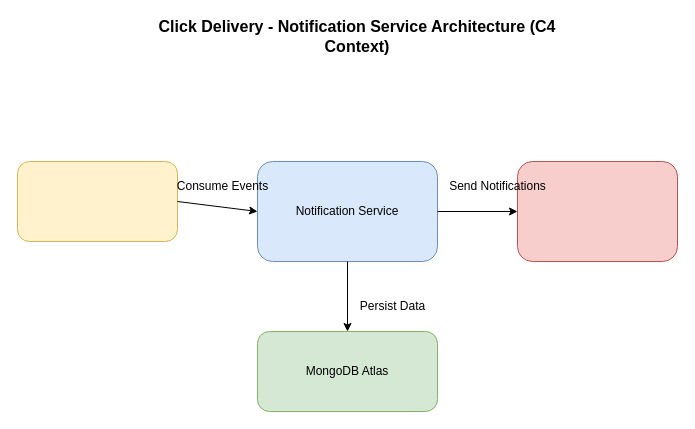
The diagram is 695 pixels wide and 429 high, and some of its shapes have lost their labels. The centre of each missing label's shape, as x and y in pixels:
NATS Message Broker: the point at 97,201
SendGrid / FCM / Twilio: the point at 597,211
